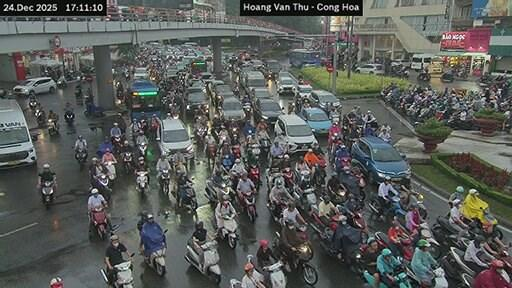motorbike: (310, 212, 367, 265), (272, 232, 316, 283), (185, 243, 220, 283), (246, 253, 285, 287), (440, 247, 476, 279), (141, 234, 165, 275), (394, 187, 425, 217), (432, 215, 460, 247), (368, 193, 405, 216), (419, 221, 440, 256), (291, 187, 316, 214), (346, 205, 368, 234), (89, 206, 108, 238), (400, 259, 421, 286), (217, 215, 234, 247), (112, 261, 131, 287), (240, 192, 256, 221), (266, 199, 287, 221), (181, 183, 197, 210), (96, 172, 111, 199), (429, 266, 448, 287), (326, 184, 345, 203), (393, 266, 410, 287), (313, 158, 326, 185), (135, 171, 147, 196), (399, 238, 412, 260), (42, 181, 53, 207), (248, 162, 258, 189), (282, 166, 294, 188), (121, 152, 133, 174), (83, 103, 103, 116), (102, 161, 115, 180), (374, 230, 388, 247), (205, 144, 216, 165), (195, 126, 207, 145), (74, 148, 86, 166), (458, 273, 473, 287), (259, 136, 269, 157), (221, 153, 233, 170), (160, 171, 169, 193), (335, 157, 349, 170), (362, 270, 373, 286), (35, 107, 44, 126), (112, 135, 122, 151), (48, 118, 57, 135), (250, 144, 259, 160), (28, 98, 38, 111), (230, 144, 240, 157), (99, 269, 108, 283), (64, 111, 73, 124), (441, 72, 454, 81), (243, 102, 250, 118), (138, 143, 146, 157), (416, 72, 428, 81), (58, 76, 67, 86), (115, 90, 122, 99), (143, 243, 147, 248), (380, 283, 386, 286), (163, 229, 166, 233), (131, 253, 133, 255)
